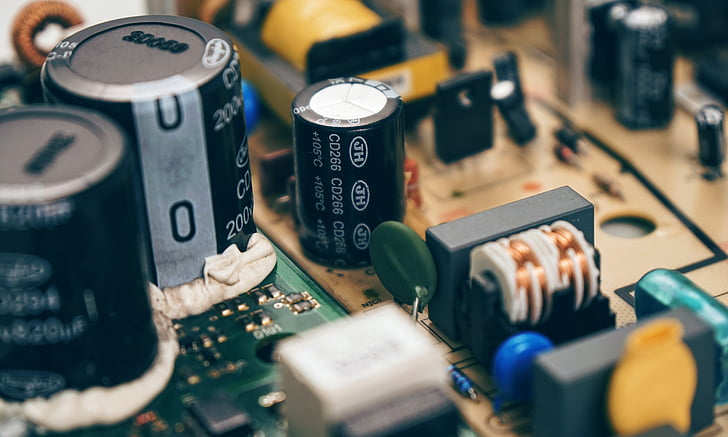capacitor: (36, 10, 269, 279), (6, 99, 152, 383), (281, 73, 424, 266), (618, 10, 677, 134), (487, 80, 533, 138), (698, 98, 723, 178)
